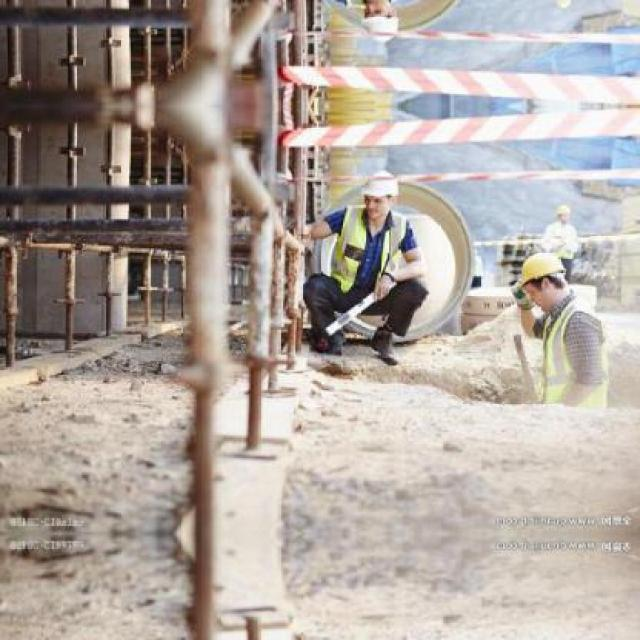Reflective-Jacket: (303, 208, 432, 306), (528, 302, 623, 415)
Safety-Helmet: (506, 248, 571, 296), (348, 165, 408, 208)
